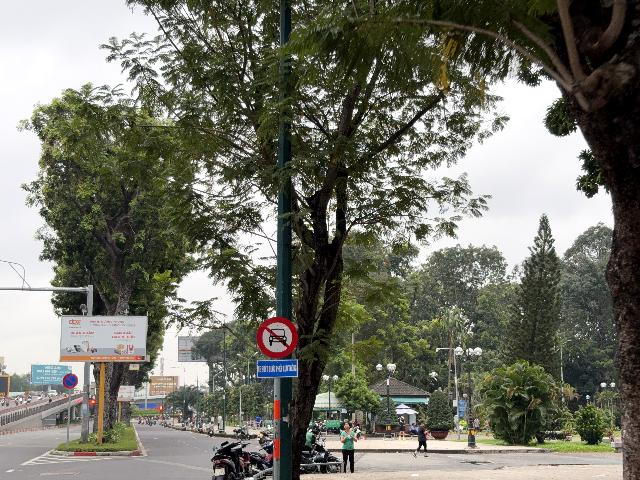cam-o-to: (257, 317, 297, 358)
